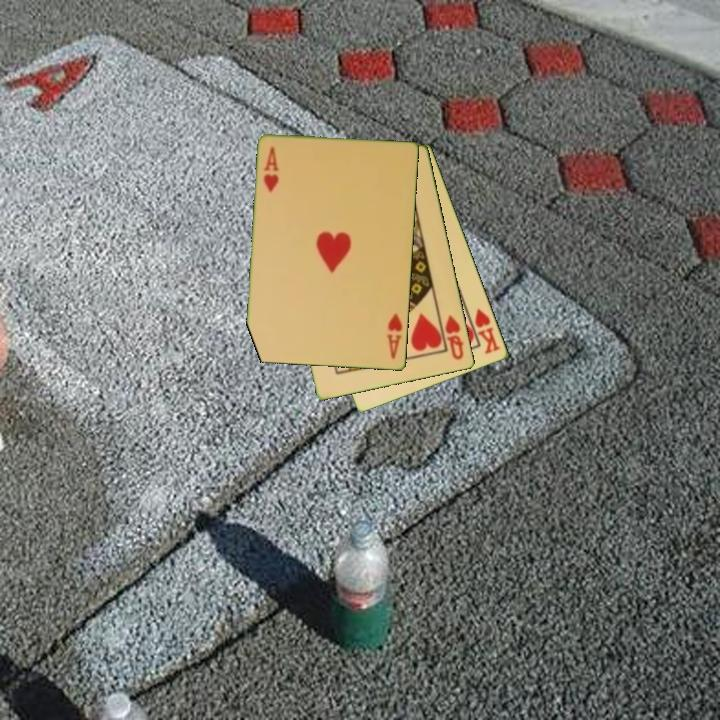Ah: (383, 310, 405, 362), (260, 144, 282, 195)
Kh: (464, 305, 503, 357)
Qh: (442, 312, 467, 363)
